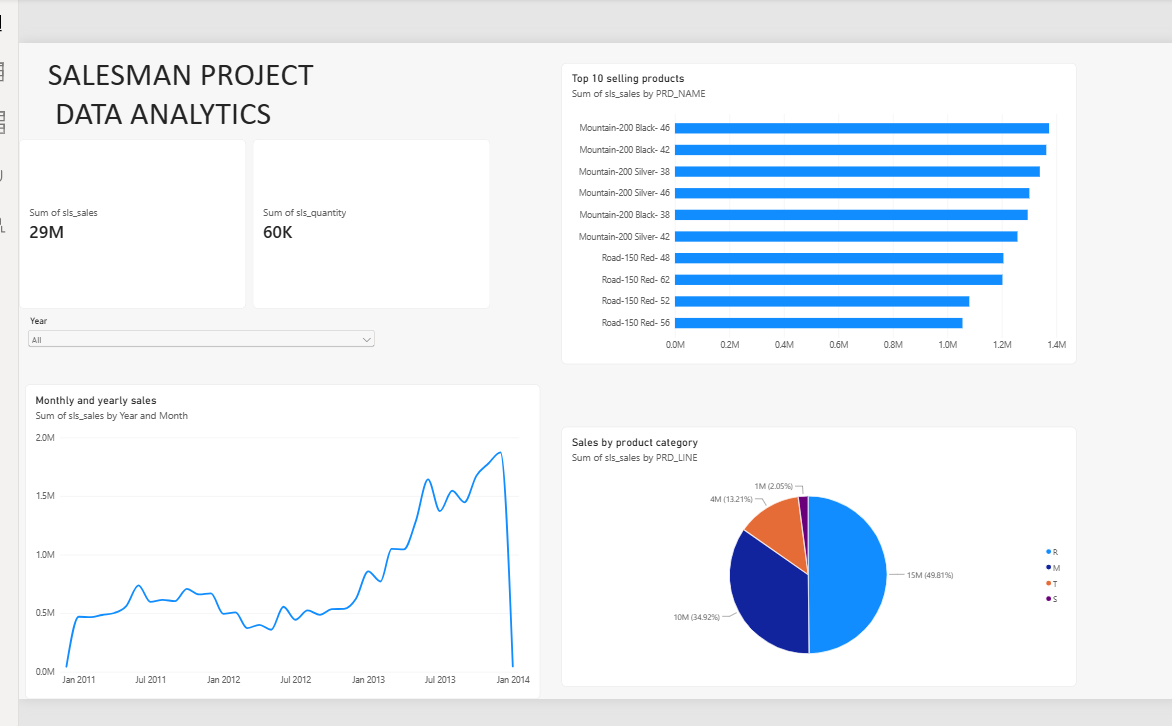

What the dashboard file says about the page in this screenshot:
{"tool":"powerbi","page":{"name":"Page 1","canvas":[1920,1080],"ordinal":0},"visuals":[{"type":"cardVisual","fields":{"Data":["Sum(sales_table.sls_sales)"]},"box":[0,158.5,374.6,279.9],"z":0},{"type":"cardVisual","fields":{"Data":["Sum(sales_table.sls_quantity)"]},"box":[384.9,158.5,391.1,279.9],"z":1000},{"type":"lineChart","title":"Monthly and yearly sales","fields":{"Category":["sales_table.sls_order_dt_fixed.Variation.Date Hierarchy.Year","sales_table.sls_order_dt_fixed.Variation.Date Hierarchy.Month"],"Y":["Sum(sales_table.sls_sales)"]},"box":[10.3,561.9,848,518.7],"z":2000},{"type":"barChart","title":"Top 10 selling products","fields":{"Category":["sales_table.PRD_NAME"],"Y":["Sum(sales_table.sls_sales)"]},"box":[893.3,32.9,848,496.1],"z":3000},{"type":"slicer","fields":{"Values":["sales_table.sls_order_dt_fixed.Variation.Date Hierarchy.Year"]},"box":[10.3,448.7,580.4,113.2],"z":4000},{"type":"pieChart","title":"Sales by product category","fields":{"Category":["sales_table.PRD_LINE"],"Y":["Sum(sales_table.sls_sales)"]},"box":[893.3,631.9,848,428.1],"z":5000},{"type":"textbox","box":[47.3,0,771.9,228.5],"z":6000}]}

Visuals, with their boxes on the page's 1920x1080 design canvas (x1, y1, x2, y2). These are canvas units, not pixel positions in the 1172x726 screenshot, which may show the page scaled, cropped or inside an application window:
cardVisual - Sum(sales_table.sls_sales): <box>0,158,375,438</box>
cardVisual - Sum(sales_table.sls_quantity): <box>385,158,776,438</box>
"Monthly and yearly sales" lineChart: <box>10,562,858,1081</box>
"Top 10 selling products" barChart: <box>893,33,1741,529</box>
slicer - sales_table.sls_order_dt_fixed.Variation.Date Hierarchy.Year: <box>10,449,591,562</box>
"Sales by product category" pieChart: <box>893,632,1741,1060</box>
textbox: <box>47,0,819,228</box>
